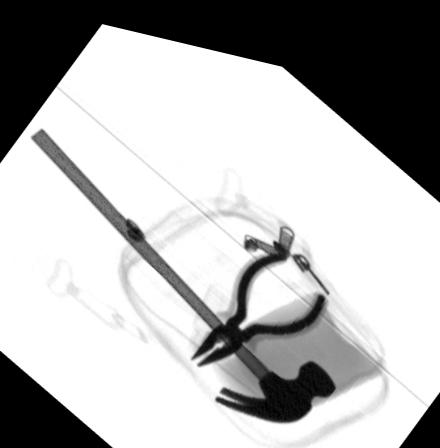Hammer: (29, 125, 338, 409)
Pliers: (190, 231, 329, 354)
